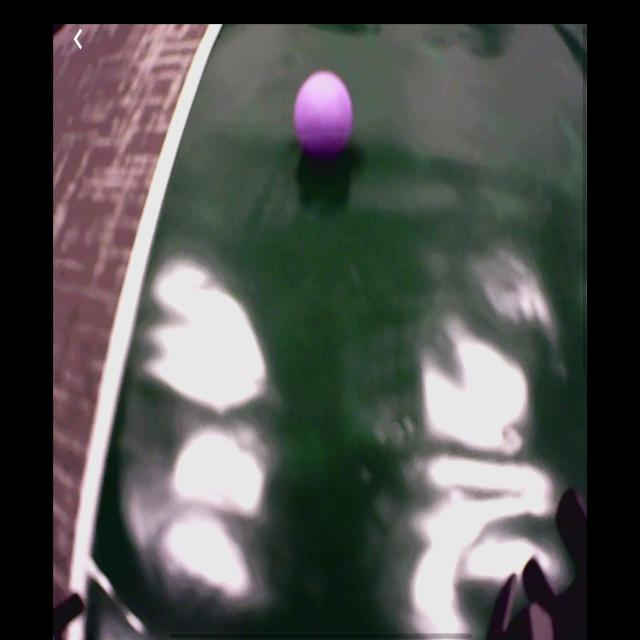ball: (296, 74, 352, 157)
